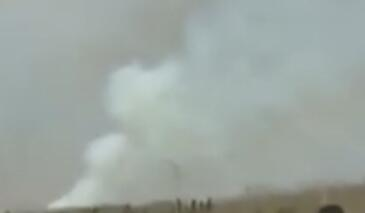yanwu: (3, 1, 364, 211)
